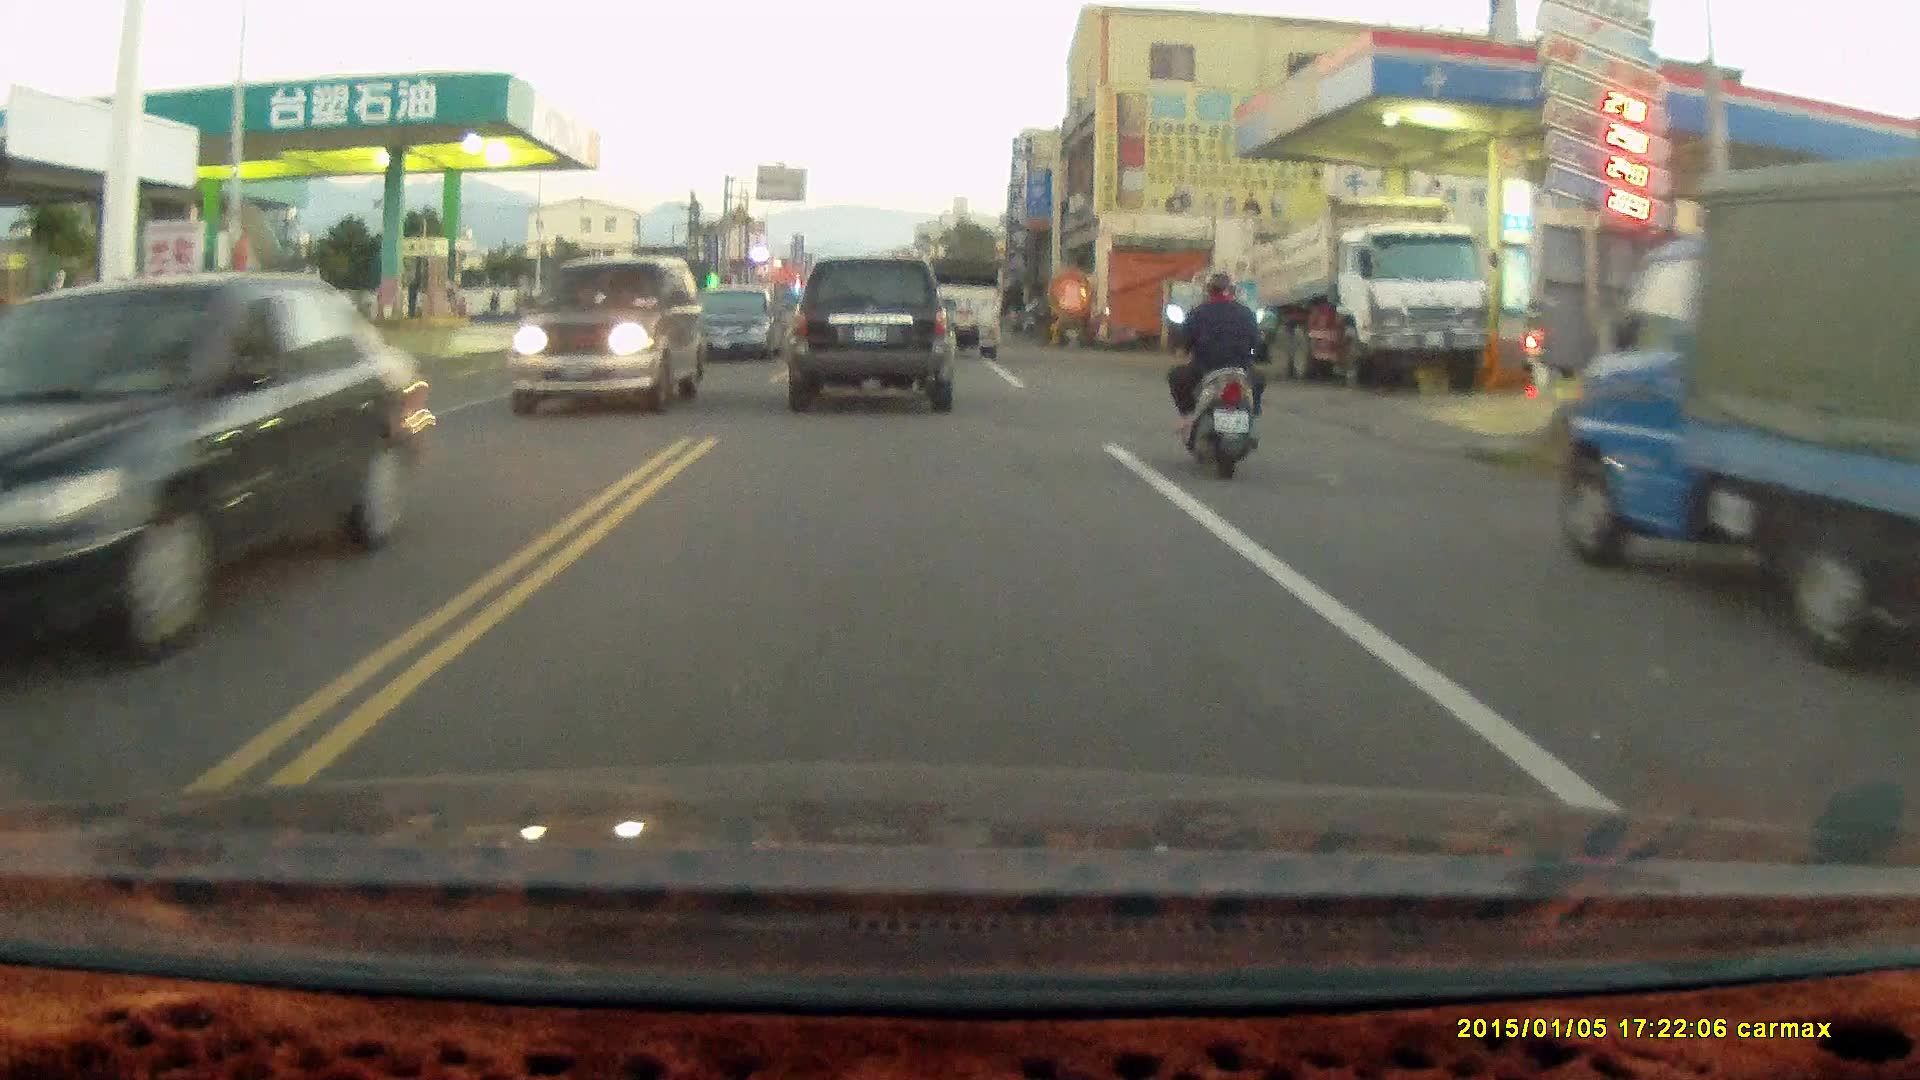rider: (1162, 270, 1269, 483)
vehicle: (1557, 154, 1920, 681), (1, 270, 426, 672), (1242, 191, 1489, 390), (510, 251, 700, 417), (790, 256, 954, 413), (912, 258, 1005, 362), (694, 286, 787, 364)
